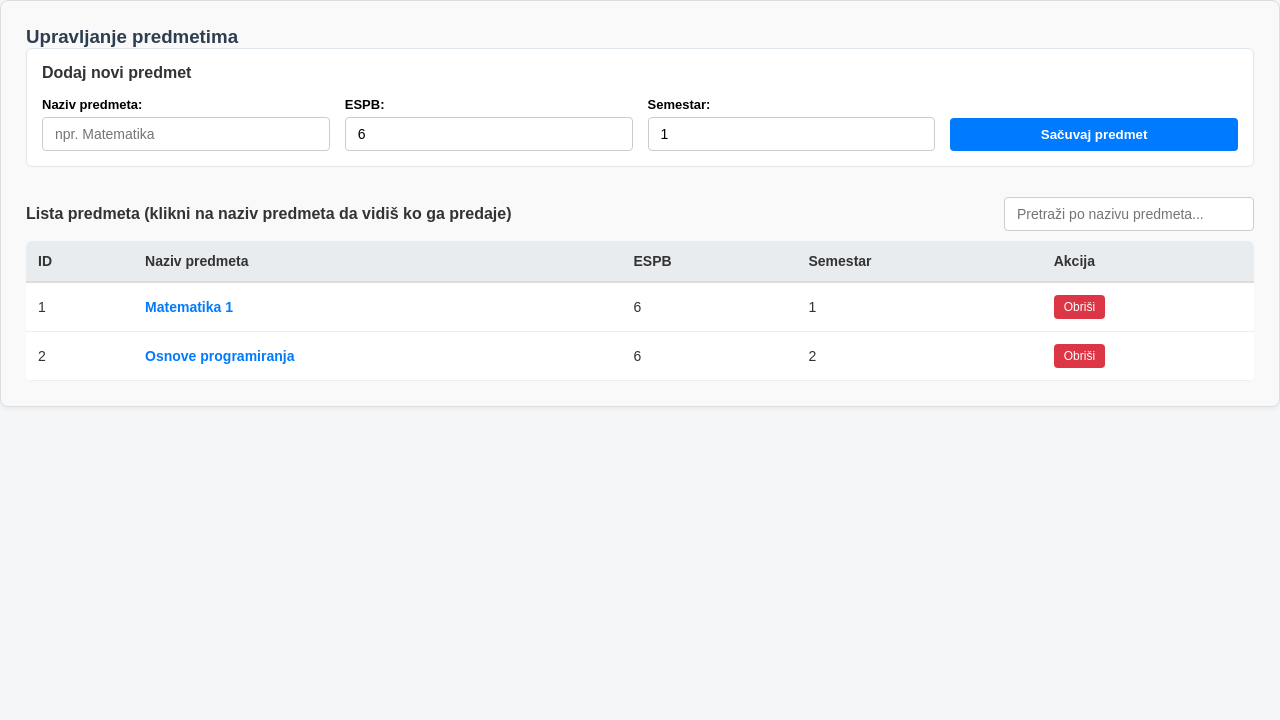
AdminPredmeti Component - Comprehensive Tests › uspešno briše predmet i čisti prikazane nastavnike ako je obrisani predmet bio selektovan
// Prvo selektujemo Matematiku (id: 1) da popunimo `prikazaniPredmet`
Step 1. Click the text "Matematika 1" → (189, 307), box [133,282,622,332]
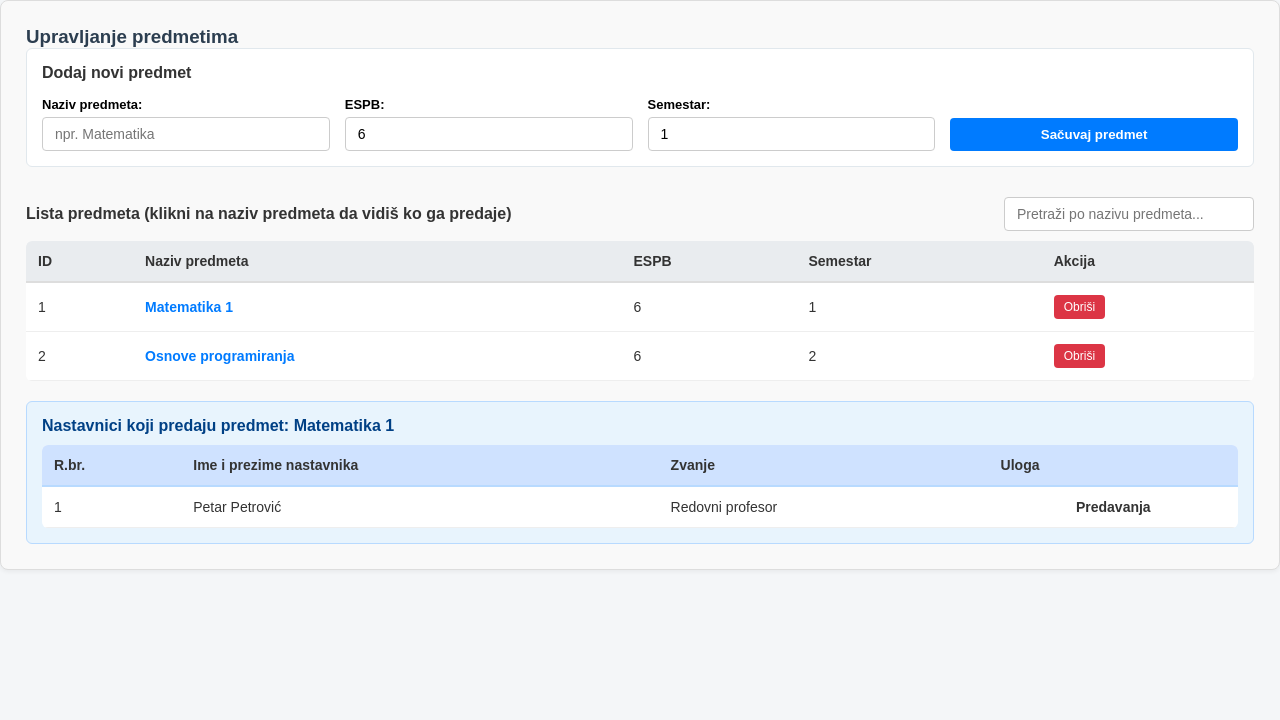
Now the heading "Nastavnici koji predaju predmet: Matematika 1" is shown, box [42,417,394,434]
// Sada brišemo predmet sa id: 1
Step 2. Click the 1st button "Obriši" → (1079, 307), box [1054,295,1105,319]
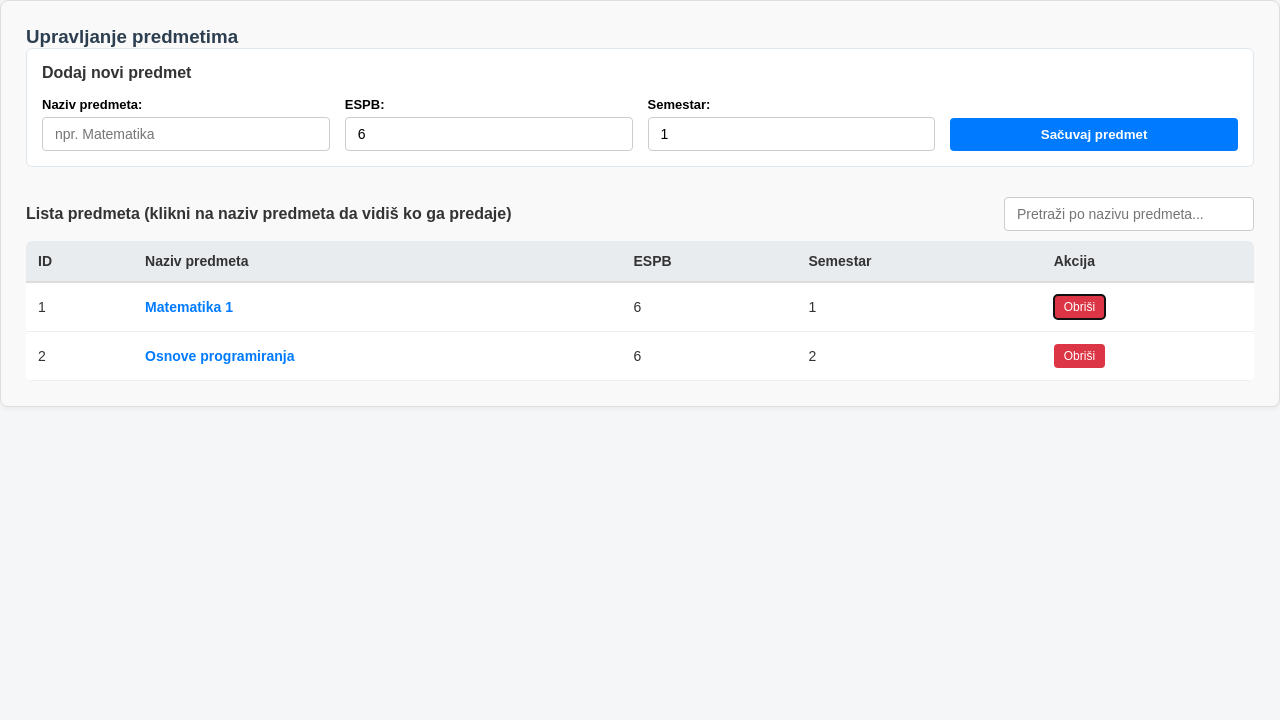
Now the heading "Nastavnici koji predaju predmet:" is gone
